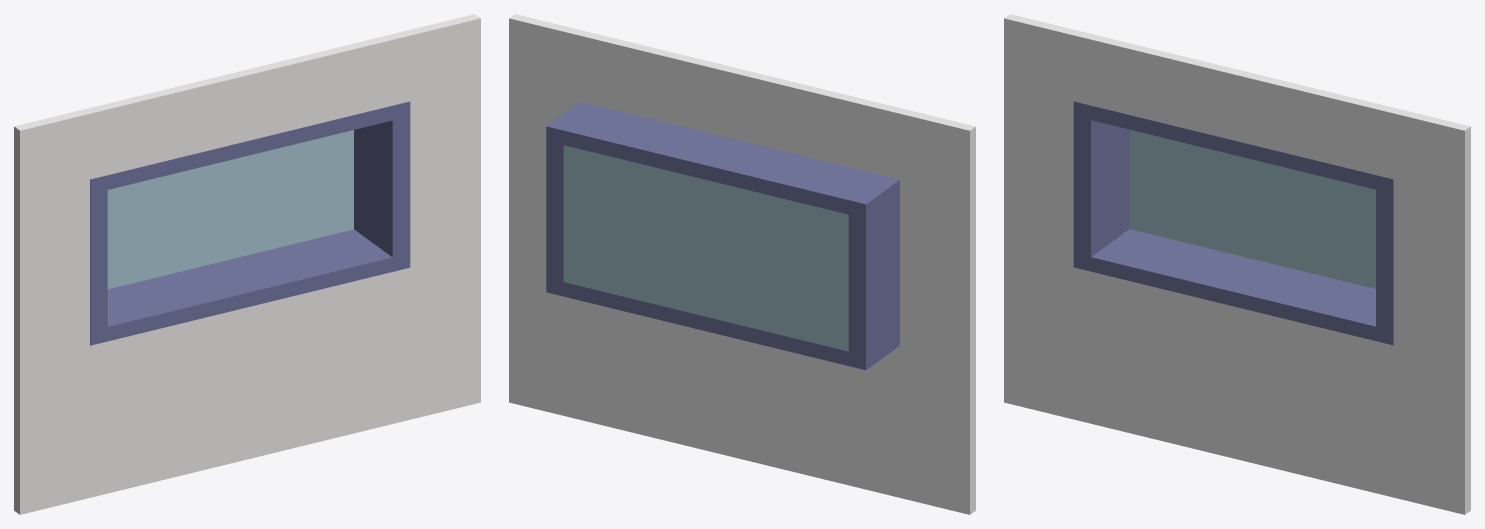
File: Wall_3.fbx
The picture shows the model from 3 angles, left to right: view 1: azimuth 30°, elevation 25°; view 2: azimuth 150°, elevation 25°; view 3: azimuth 330°, elevation 25°; orthographic projection.
Parts seen in each view (by area): view 1: Wall_3; view 2: Wall_3; view 3: Wall_3.
Part boxes in pixels (bbox=[...]): Wall_3: bbox=[14, 14, 480, 514]; Wall_3: bbox=[509, 14, 975, 514]; Wall_3: bbox=[1004, 14, 1470, 514].
Size of the model in its own units: 489 by 74.15 by 390.
